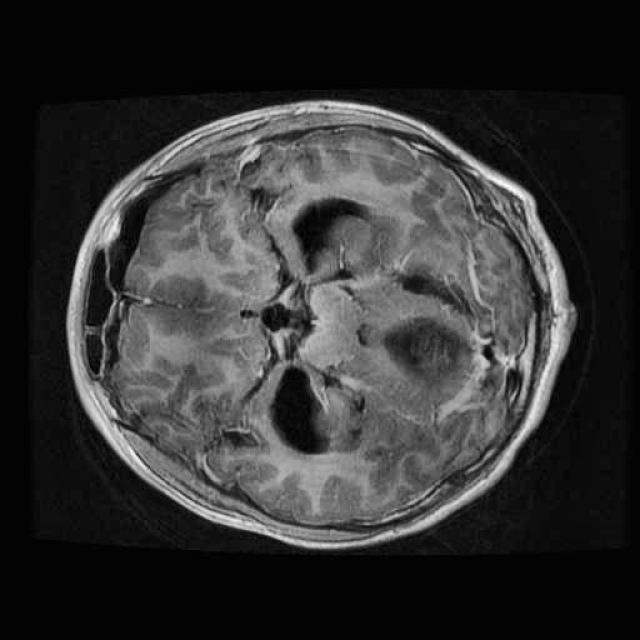Non-Tumor: (375, 304, 481, 399)
